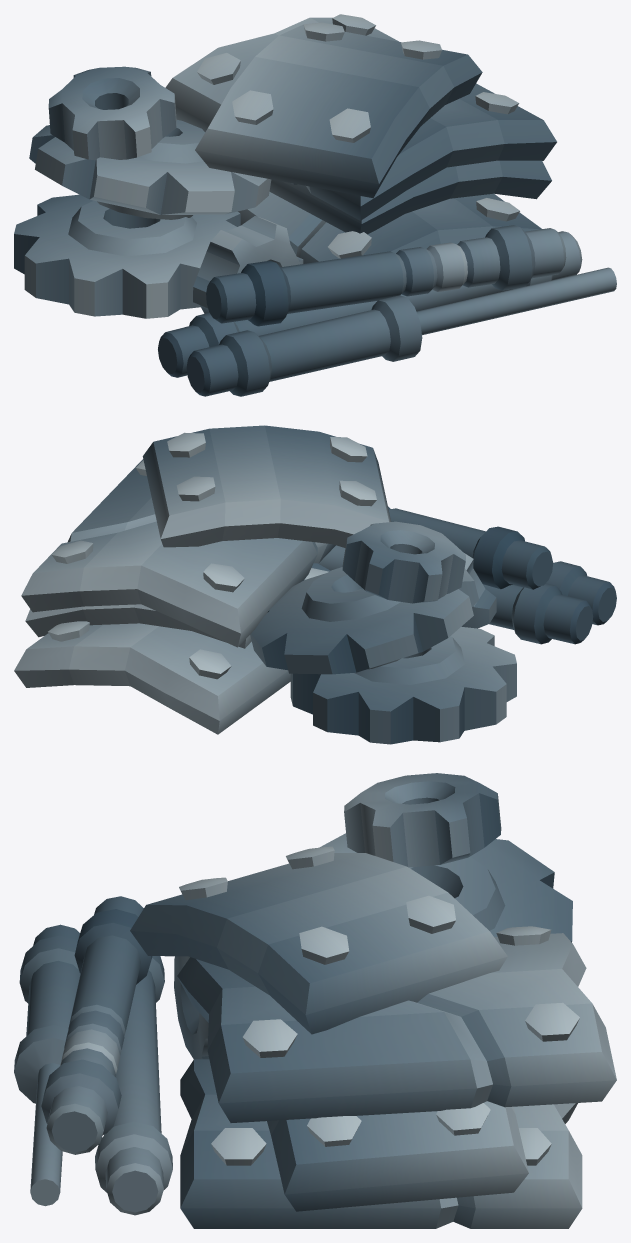
Rendered from Parts_Pile_Large.glb.
The picture shows the model from 3 angles, top to bottom: view 1: azimuth 30°, elevation 25°; view 2: azimuth 150°, elevation 25°; view 3: azimuth 270°, elevation 25°; orthographic projection. The views are drawn at different scales.
Visible parts, largest first — view 1: Parts_Pile_Large; view 2: Parts_Pile_Large; view 3: Parts_Pile_Large.
Part boxes in pixels (x1,y1,x2,y2): Parts_Pile_Large: (14,14,616,396); Parts_Pile_Large: (14,425,616,744); Parts_Pile_Large: (14,773,616,1228).
Bounding box in the file's own units: 1.74 × 0.7248 × 1.57.
1 material, 1 textured.
